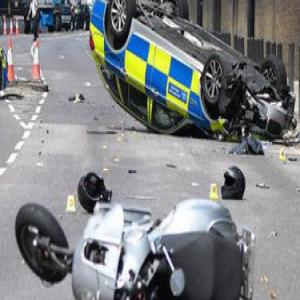critical: (82, 0, 297, 155)
